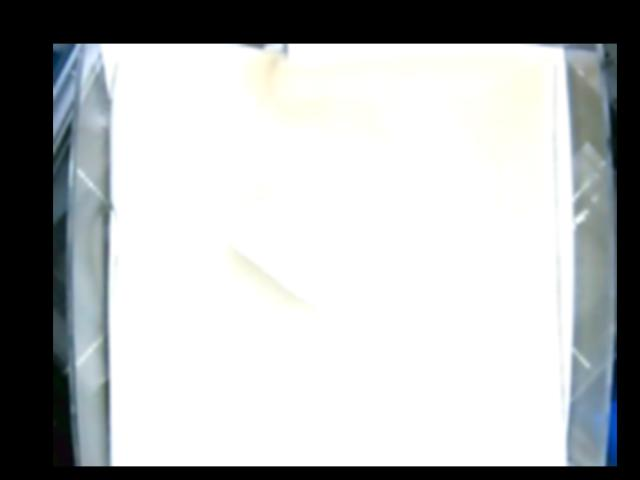Cup: (227, 135, 408, 314)
